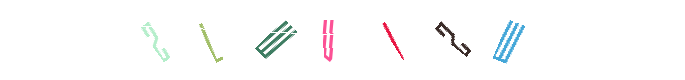I: (310, 0, 390, 80)
L: (236, 0, 316, 80)
V: (302, 0, 382, 80)
W: (243, 0, 323, 80), (468, 0, 548, 80)
Z: (219, 0, 299, 80), (412, 0, 492, 80)
